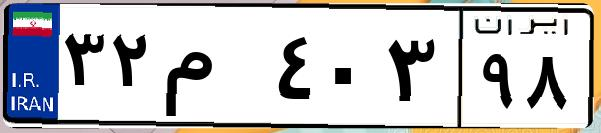0: (330, 28, 385, 110)
2: (110, 28, 158, 98)
3: (385, 28, 445, 110), (57, 26, 110, 100)
4: (270, 28, 330, 110)
8: (525, 38, 570, 115)
9: (475, 38, 525, 113)
م: (158, 20, 270, 120)
